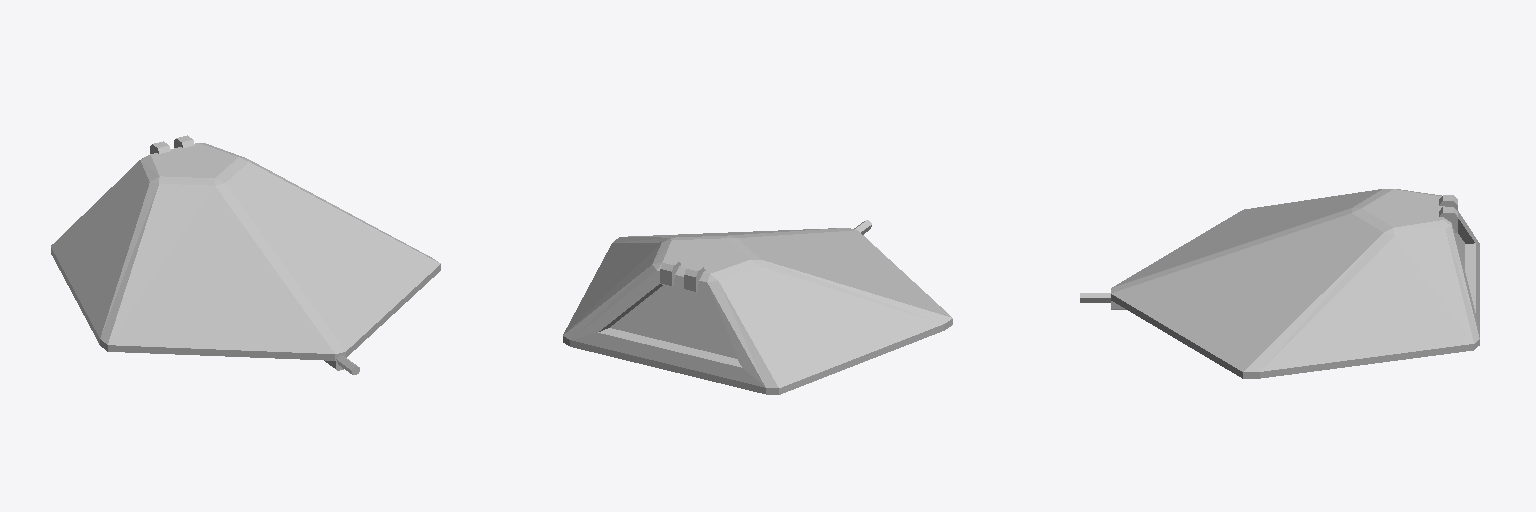
File: oolite_thargon.obj
The picture shows the model from 3 angles: view 1: azimuth 30°, elevation 25°; view 2: azimuth 150°, elevation 25°; view 3: azimuth 270°, elevation 25°; orthographic projection.
Parts seen in each view (by area): view 1: tharglet.obj; view 2: tharglet.obj; view 3: tharglet.obj.
Boxes of the visible parts, <box> form: tharglet.obj: <box>51,135,440,374</box>; tharglet.obj: <box>563,220,952,394</box>; tharglet.obj: <box>1080,189,1479,378</box>.
Bounding box in the file's own units: 36.27 × 10.89 × 37.61.